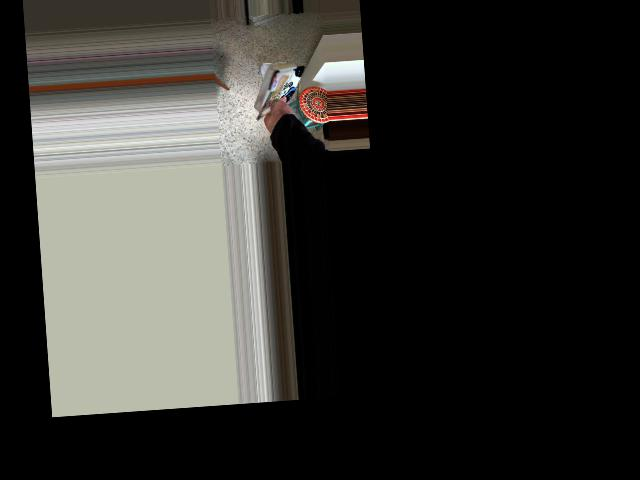cheese: (244, 58, 318, 133)
